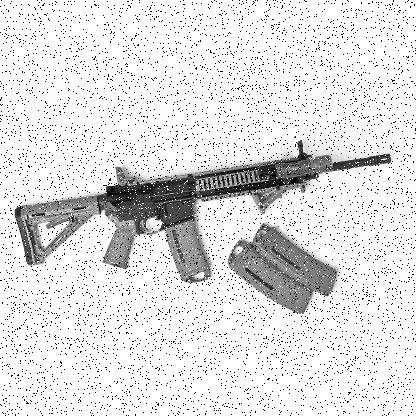gun: (13, 138, 390, 282)
